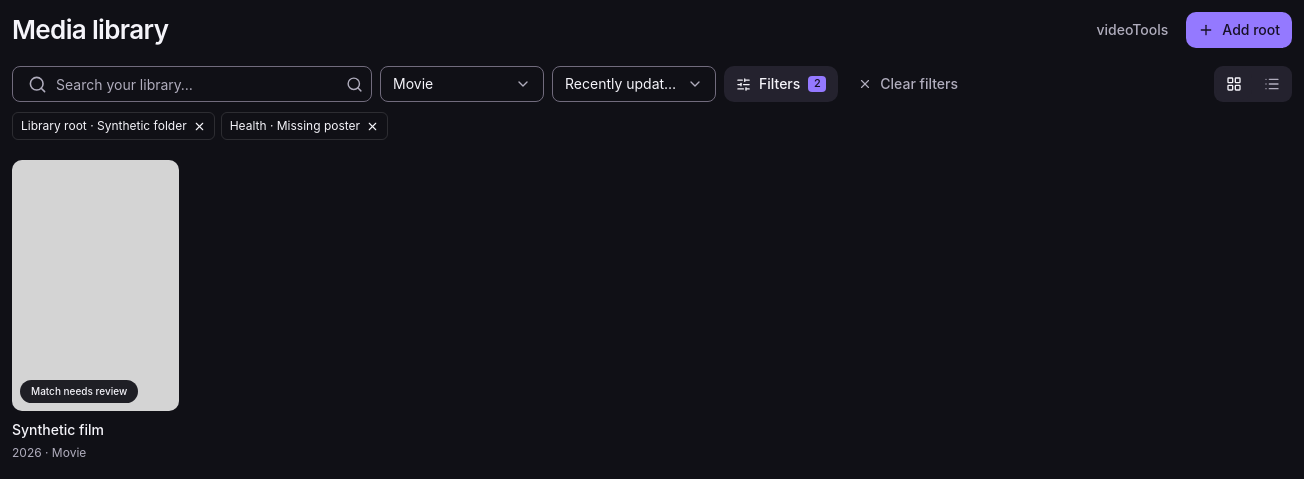
Test case: clears an unsubmitted draft even when the applied query was empty
Type "Unsubmitted draft" into the search field at (192, 84), box [12,66,372,102]
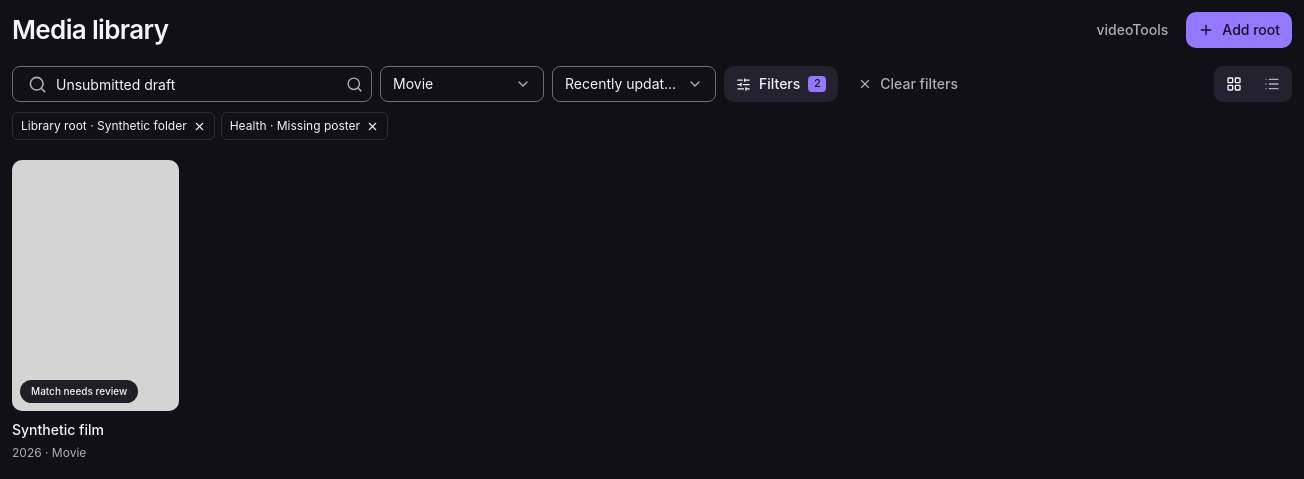
Click the button "Clear filters" at (908, 84), box [846,66,970,102]
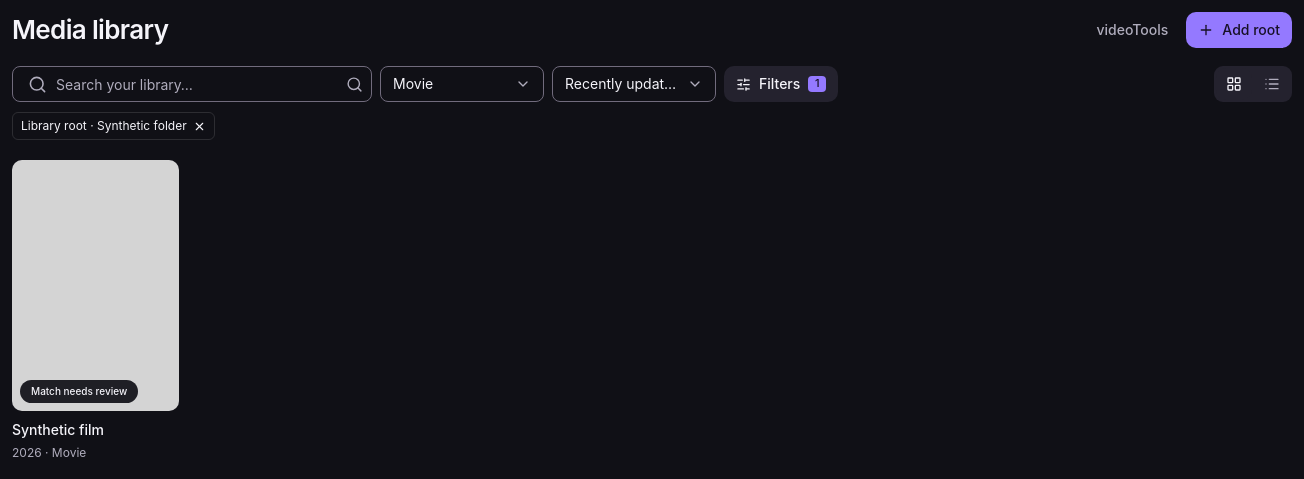
Now the search field is empty, box [12,66,372,102]
